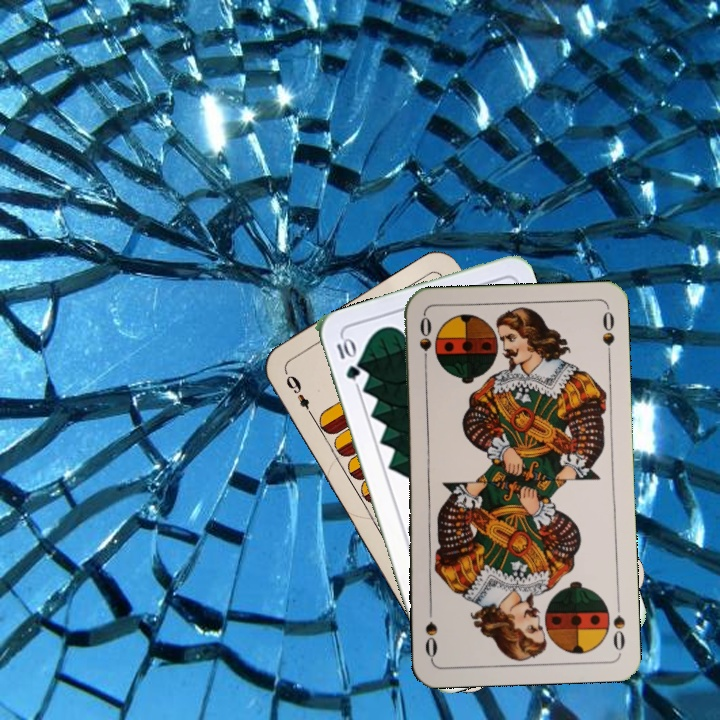E9: (280, 368, 317, 421)
G10: (332, 334, 363, 383)
SO: (415, 312, 434, 372), (609, 596, 628, 653)
